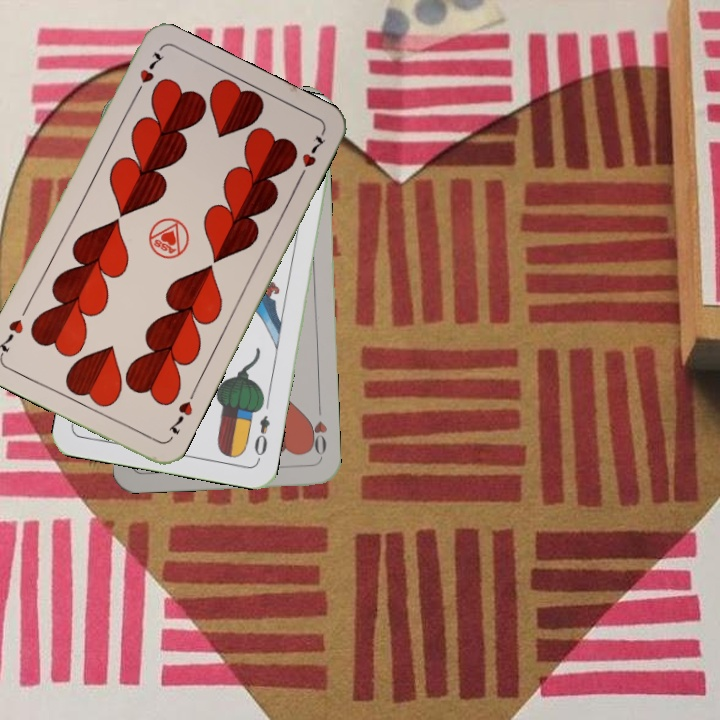EO: (250, 411, 272, 464)
H7: (130, 48, 166, 101), (164, 397, 195, 437)
HO: (304, 401, 330, 460)
